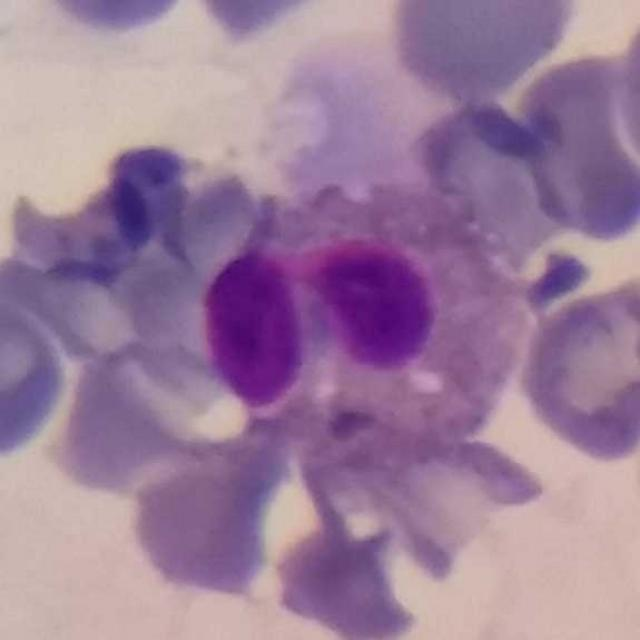Eosinophil: (198, 177, 530, 461)
RBC: (306, 400, 559, 586), (53, 331, 285, 493), (262, 482, 438, 640), (506, 45, 639, 247), (512, 272, 640, 466), (124, 456, 282, 604), (381, 0, 588, 105), (0, 284, 73, 466), (181, 0, 362, 48), (26, 0, 202, 38), (612, 0, 640, 187)
